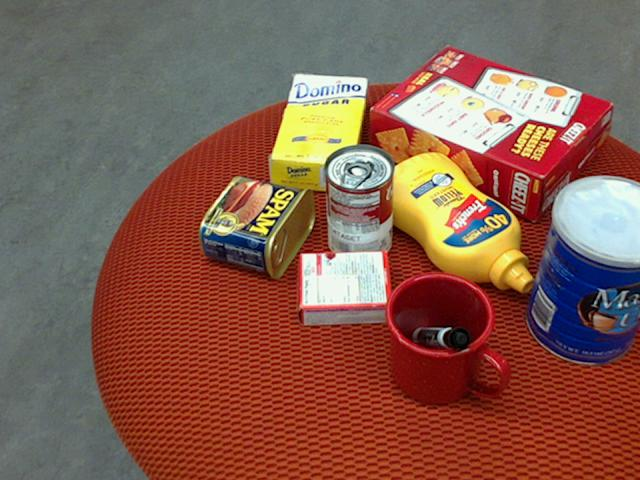cracker_box: (369, 45, 610, 219)
gelatin_box: (294, 252, 389, 326)
large_marker: (412, 326, 469, 349)
master_chef_can: (524, 175, 639, 365)
mug: (381, 271, 505, 405)
mustard_bottle: (372, 152, 532, 293)
potted_meat_can: (197, 175, 314, 279)
sugar_box: (268, 74, 367, 192)
tomato_soup_can: (322, 142, 393, 263)
tuna_fish_can: (552, 189, 639, 269)
